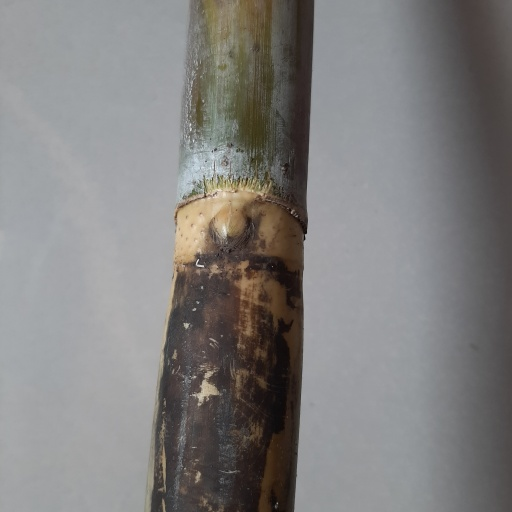Bud: (209, 207, 253, 252)
